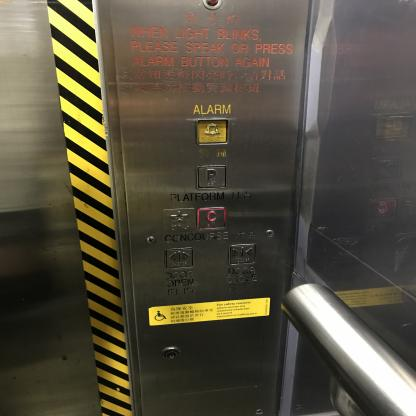C: (196, 206, 228, 230)
P: (194, 164, 228, 190)
alarm: (195, 117, 230, 145)
close: (226, 242, 258, 266)
open: (164, 246, 196, 270)
s: (161, 207, 198, 234)
